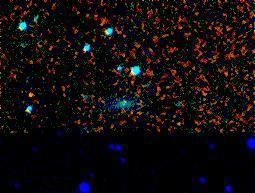star: (17, 80, 47, 110)
